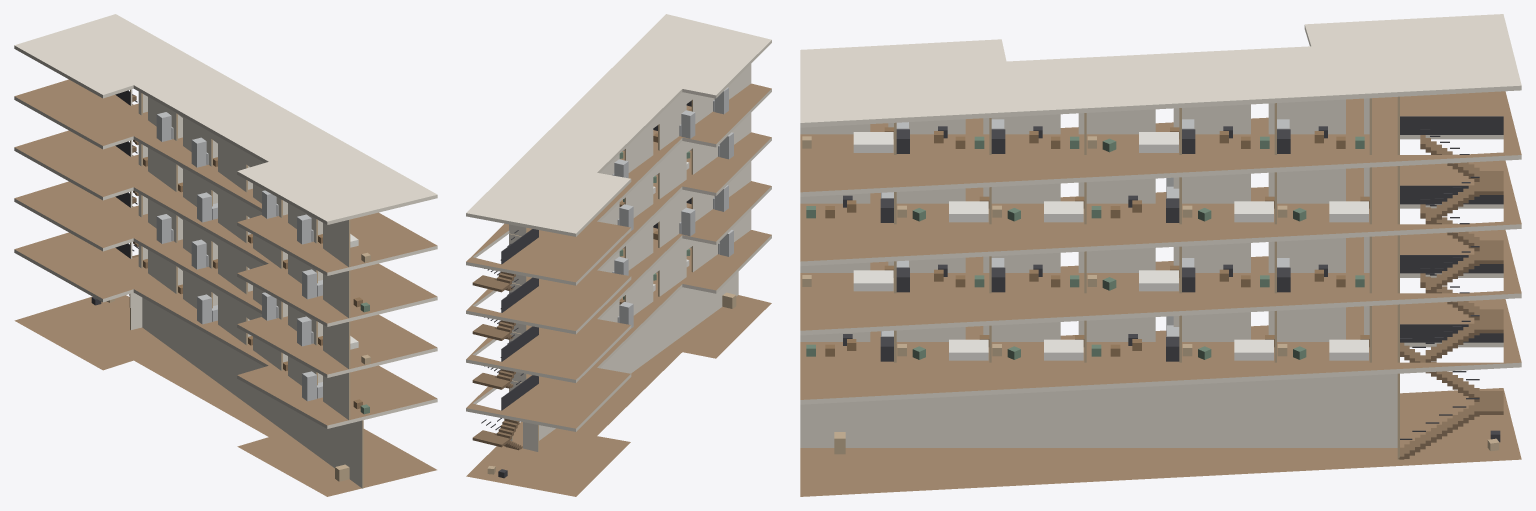
The model's file is interior.glb.
3 views of the same model, side by side, from view 1: azimuth 30°, elevation 25°; view 2: azimuth 150°, elevation 25°; view 3: azimuth 270°, elevation 25° (orthographic). The views are drawn at different scales.
Parts seen in each view (by area): view 1: slabs, partitions, coarse-s2, coarse-s4, coarse-s1, coarse-s3, stair; view 2: slabs, partitions, stair, coarse-s4, coarse-s2, coarse-s1, coarse-s3, coarse-s0; view 3: slabs, partitions, stair, coarse-s3, coarse-s1, coarse-s2, coarse-s4.
Boxes of the visible parts, left/top/right/bottom form: slabs: left=14, top=14, right=437, bottom=496; partitions: left=129, top=89, right=363, bottom=488; coarse-s2: left=156, top=214, right=370, bottom=364; coarse-s4: left=156, top=112, right=370, bottom=262; coarse-s1: left=143, top=259, right=369, bottom=414; coarse-s3: left=143, top=157, right=369, bottom=312; stair: left=115, top=90, right=138, bottom=295; slabs: left=466, top=14, right=771, bottom=496; partitions: left=509, top=64, right=751, bottom=451; stair: left=472, top=229, right=538, bottom=450; coarse-s4: left=612, top=87, right=728, bottom=178; coarse-s2: left=612, top=185, right=728, bottom=275; coarse-s1: left=617, top=230, right=733, bottom=328; coarse-s3: left=617, top=132, right=733, bottom=230; coarse-s0: left=487, top=292, right=736, bottom=478; slabs: left=800, top=14, right=1521, bottom=496; partitions: left=800, top=96, right=1399, bottom=459; stair: left=1398, top=116, right=1503, bottom=459; coarse-s3: left=806, top=177, right=1369, bottom=222; coarse-s1: left=806, top=316, right=1369, bottom=361; coarse-s2: left=802, top=258, right=1364, bottom=292; coarse-s4: left=802, top=119, right=1364, bottom=153.
Size of the model in its own units: 12.94 by 20.71 by 36.18.
